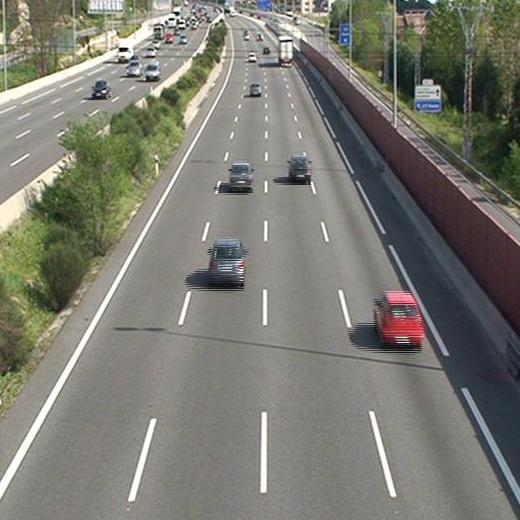car: (374, 293, 423, 347), (208, 240, 247, 285), (228, 164, 254, 191), (287, 157, 312, 181), (249, 81, 260, 97), (247, 52, 256, 61)
truck: (279, 33, 294, 66)
